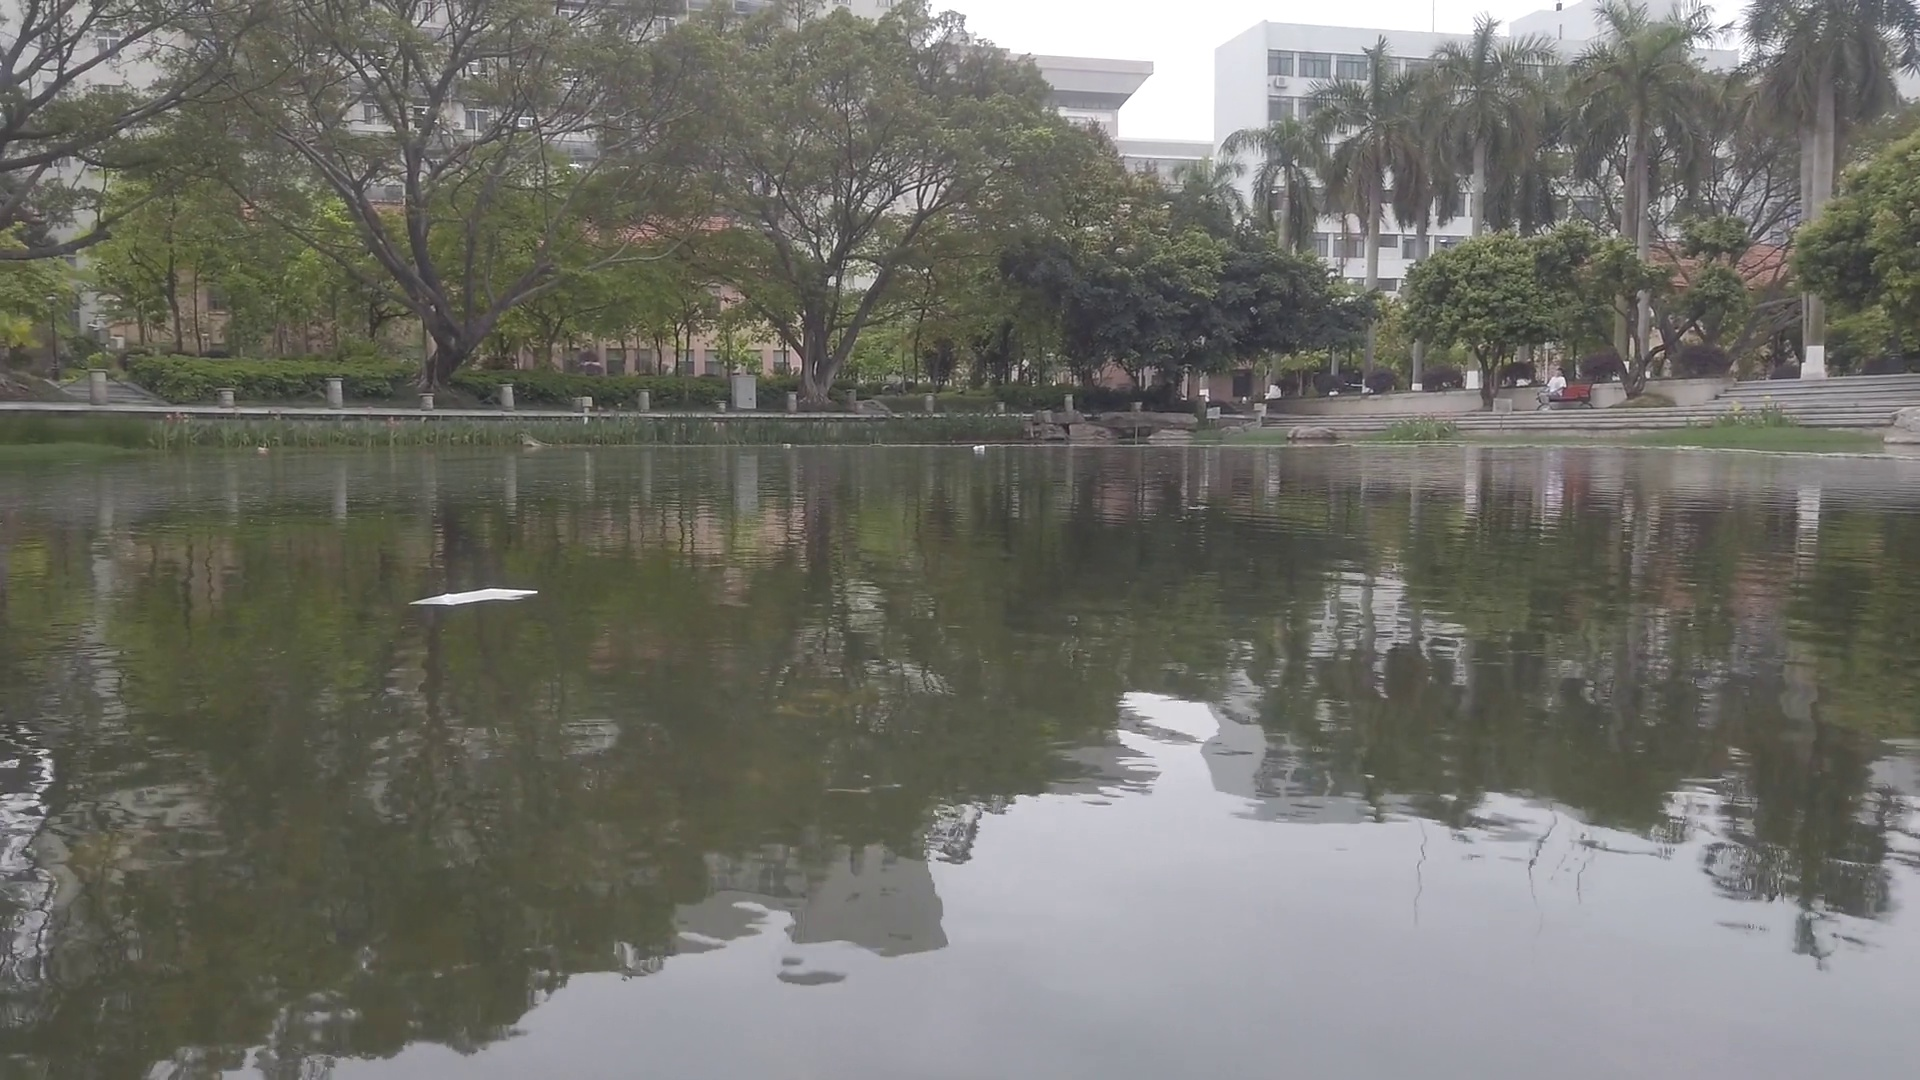bottle: (255, 444, 273, 454), (973, 443, 986, 454), (783, 440, 793, 448)
paper: (415, 582, 535, 609)
